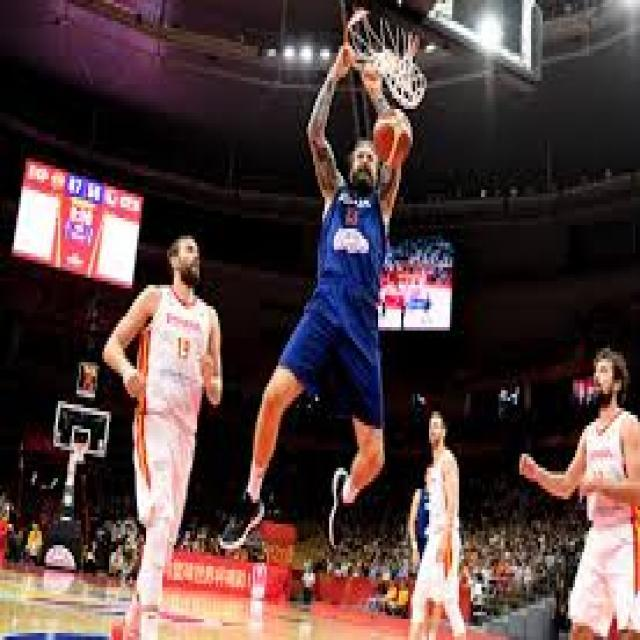rim: (371, 105, 413, 169)
